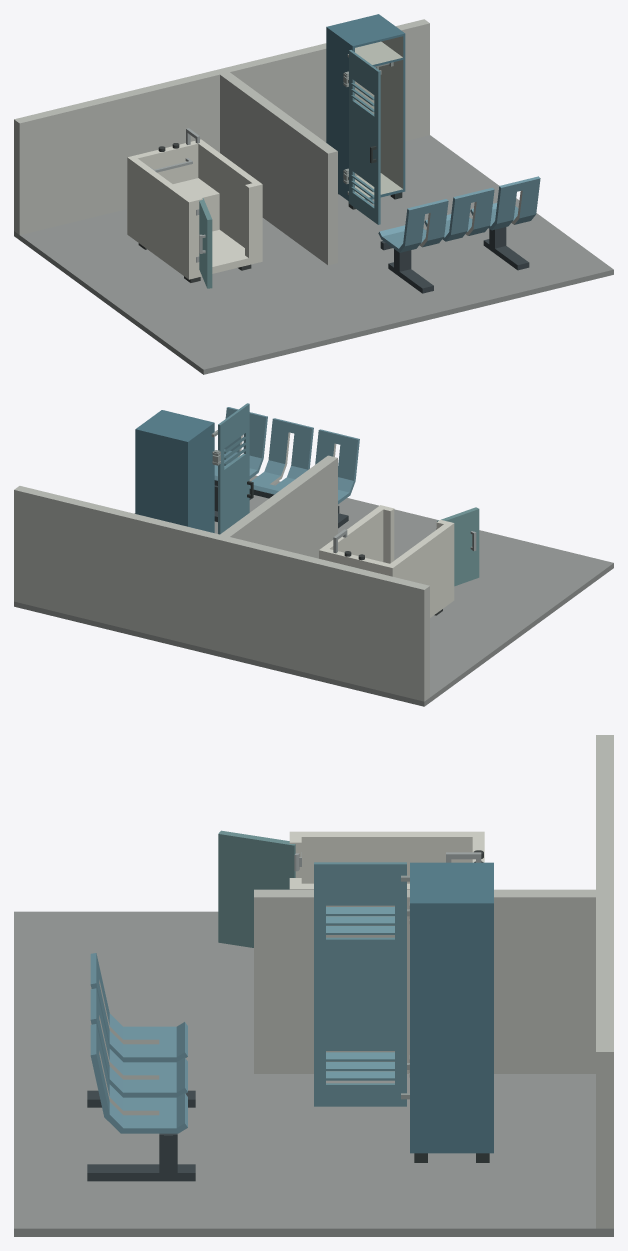
The picture shows the model from 3 angles, top to bottom: view 1: azimuth 30°, elevation 25°; view 2: azimuth 150°, elevation 25°; view 3: azimuth 270°, elevation 25°; orthographic projection. The views are drawn at different scales.
Parts seen in each view (by area): view 1: SCENE_ONLY__DisplayFloor, bath__WholeSteppedSeatFootwellAndDoorwayShell, locker__ContinuousFullHeightLongChamberShell, locker__FixedOpenThickLouverDoor, bench__RightContinuousSlottedSeatBack, bench__LeftContinuousSlottedSeatBack, bench__CentreContinuousSlottedSeatBack, bath__WholeFixedOpenDoor, bench__RightIntegralLongFootPedestal, bench__LeftIntegralLongFootPedestal; view 2: SCENE_ONLY__DisplayFloor, locker__ContinuousFullHeightLongChamberShell, bath__WholeSteppedSeatFootwellAndDoorwayShell, locker__FixedOpenThickLouverDoor, bench__CentreContinuousSlottedSeatBack, bath__WholeFixedOpenDoor, bench__RightContinuousSlottedSeatBack, bench__LeftContinuousSlottedSeatBack; view 3: SCENE_ONLY__DisplayFloor, locker__ContinuousFullHeightLongChamberShell, locker__FixedOpenThickLouverDoor, bath__WholeSteppedSeatFootwellAndDoorwayShell, bath__WholeFixedOpenDoor, bench__LeftContinuousSlottedSeatBack, bench__RightContinuousSlottedSeatBack, bench__CentreContinuousSlottedSeatBack, bench__LeftIntegralLongFootPedestal, locker__Window_1_OutwardSlopedLouver_1, locker__Window_1_OutwardSlopedLouver_3, locker__Window_2_OutwardSlopedLouver_2.
Boxes of the visible parts, x1,y1,x2,y2 form: SCENE_ONLY__DisplayFloor: (14,19,613,374); bath__WholeSteppedSeatFootwellAndDoorwayShell: (127,139,262,279); locker__ContinuousFullHeightLongChamberShell: (326,14,405,201); locker__FixedOpenThickLouverDoor: (349,50,380,224); bench__RightContinuousSlottedSeatBack: (378,199,448,252); bench__LeftContinuousSlottedSeatBack: (470,176,540,230); bench__CentreContinuousSlottedSeatBack: (424,187,494,241); bath__WholeFixedOpenDoor: (199,198,212,288); bench__RightIntegralLongFootPedestal: (388,249,433,293); bench__LeftIntegralLongFootPedestal: (483,227,529,270); SCENE_ONLY__DisplayFloor: (14,455,613,706); locker__ContinuousFullHeightLongChamberShell: (135,410,214,532); bath__WholeSteppedSeatFootwellAndDoorwayShell: (319,505,454,617); locker__FixedOpenThickLouverDoor: (218,403,249,534); bench__CentreContinuousSlottedSeatBack: (249,418,313,494); bath__WholeFixedOpenDoor: (437,507,479,586); bench__RightContinuousSlottedSeatBack: (315,429,359,504); bench__LeftContinuousSlottedSeatBack: (214,407,267,480); SCENE_ONLY__DisplayFloor: (14,735,613,1236); locker__ContinuousFullHeightLongChamberShell: (410,862,493,1153); locker__FixedOpenThickLouverDoor: (314,862,406,1106); bath__WholeSteppedSeatFootwellAndDoorwayShell: (289,831,484,889); bath__WholeFixedOpenDoor: (218,830,295,947); bench__LeftContinuousSlottedSeatBack: (90,1024,187,1133); bench__RightContinuousSlottedSeatBack: (90,953,187,1062); bench__CentreContinuousSlottedSeatBack: (90,988,187,1097); bench__LeftIntegralLongFootPedestal: (87,1133,195,1181); locker__Window_1_OutwardSlopedLouver_1: (326,1071,394,1080); locker__Window_1_OutwardSlopedLouver_3: (326,1052,394,1061); locker__Window_2_OutwardSlopedLouver_2: (326,916,394,925).
Bounding box in the file's own units: 5 × 1.98 × 4.
